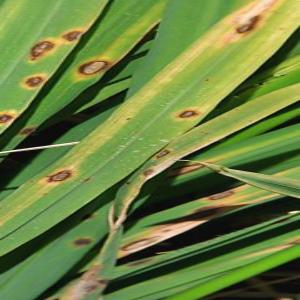Brown_Spot: (206, 1, 283, 43), (64, 50, 115, 90), (21, 32, 62, 68), (14, 65, 52, 98), (116, 231, 167, 255), (166, 99, 209, 127), (40, 162, 80, 190), (54, 20, 90, 49), (203, 184, 240, 208), (1, 102, 22, 137), (62, 232, 100, 251), (149, 142, 176, 162), (136, 163, 161, 182), (82, 174, 95, 185), (121, 115, 135, 125), (122, 180, 135, 189), (26, 178, 37, 187), (42, 190, 53, 199), (203, 74, 212, 84)
